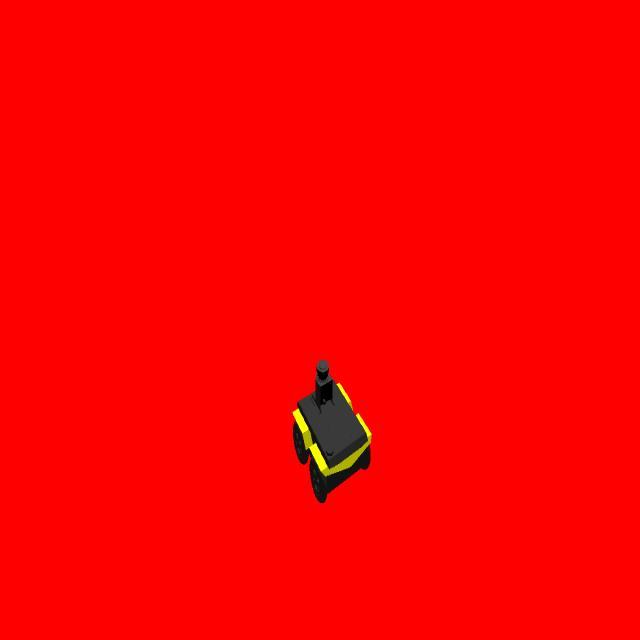jackal: (292, 359, 372, 507)
